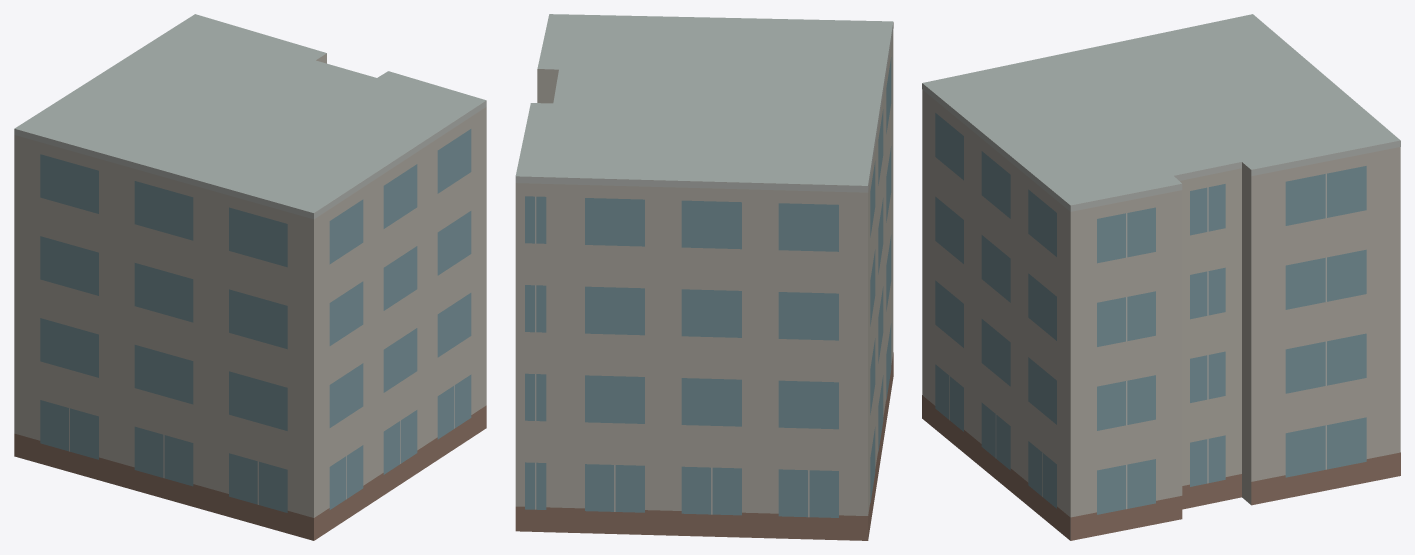
The model's file is survey-upis-32743829.glb.
3 renders of one model, left to right at view 1: azimuth 30°, elevation 25°; view 2: azimuth 150°, elevation 25°; view 3: azimuth 270°, elevation 25°, orthographic. The views are drawn at different scales.
Visible parts, largest first — view 1: survey-upis-32743829.tmp; view 2: survey-upis-32743829.tmp; view 3: survey-upis-32743829.tmp.
Boxes of the visible parts, box(x1,y1,x2,y2) form: survey-upis-32743829.tmp: box(14, 14, 486, 540); survey-upis-32743829.tmp: box(515, 14, 893, 540); survey-upis-32743829.tmp: box(922, 14, 1400, 540).
Size of the model in its own units: 15.68 by 12.8 by 16.57.
